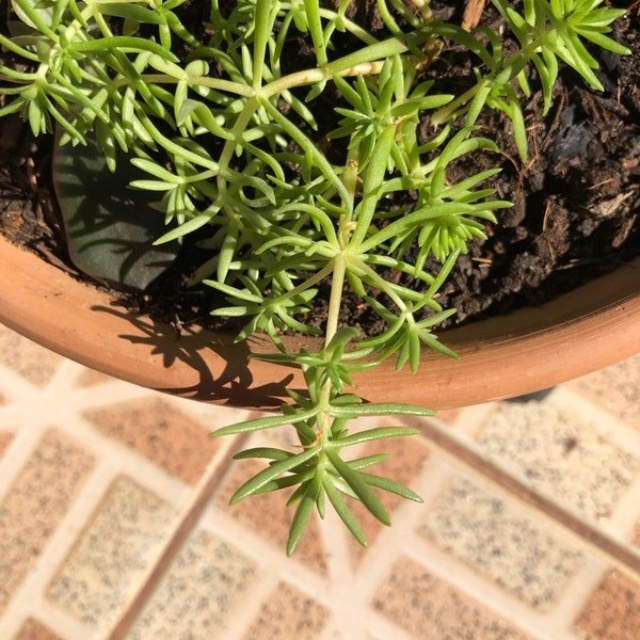obstacle: (33, 26, 622, 558)
